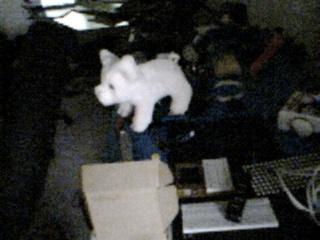piggy: (92, 47, 194, 134)
